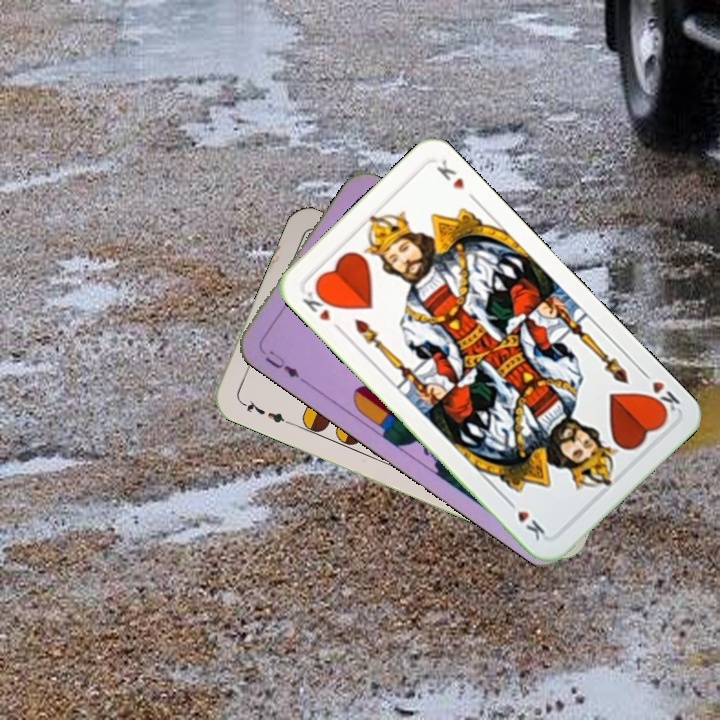E7: (237, 396, 293, 428)
EU: (261, 345, 308, 385)
HK: (636, 365, 683, 419), (298, 284, 345, 335)
